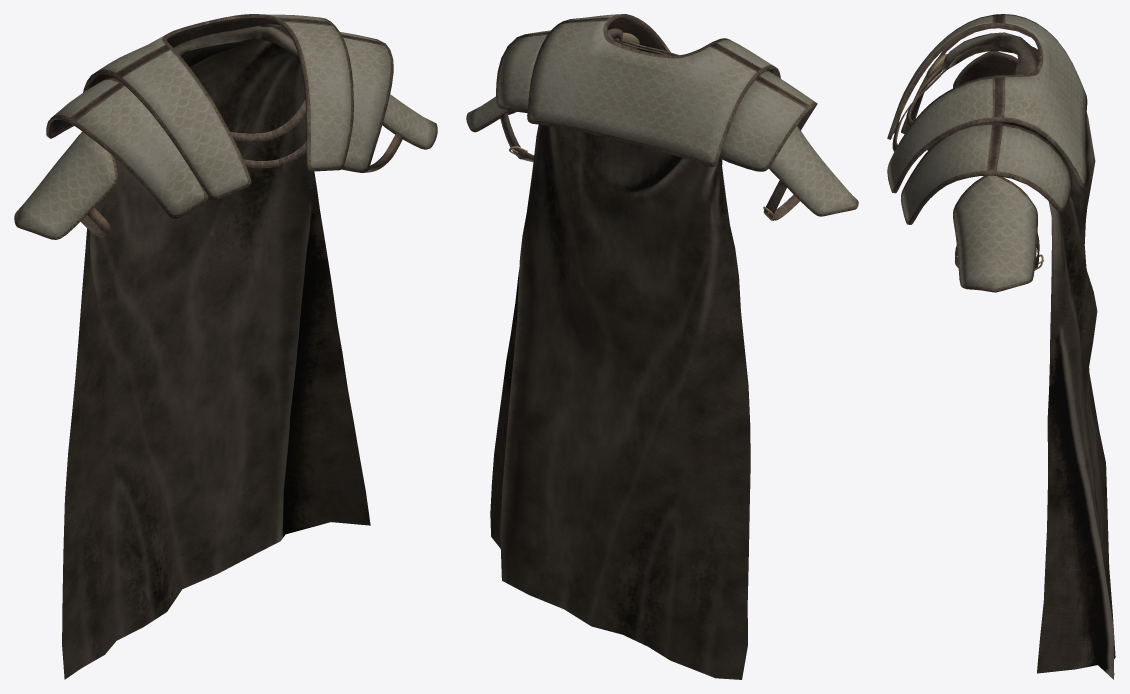
Rendered from dunland_wulf_pauldron_cape_c.fbx.
3 views of the same model, side by side, from view 1: azimuth 30°, elevation 25°; view 2: azimuth 150°, elevation 25°; view 3: azimuth 270°, elevation 25° (orthographic). The views are drawn at different scales.
Visible parts, largest first — view 1: dunland_wulf_pauldron_cape_c.cloth, dunland_wulf_pauldron_cape_c.pauldron; view 2: dunland_wulf_pauldron_cape_c.cloth, dunland_wulf_pauldron_cape_c.pauldron; view 3: dunland_wulf_pauldron_cape_c.pauldron, dunland_wulf_pauldron_cape_c.cloth.
Part boxes in pixels (left/top/right/bottom): dunland_wulf_pauldron_cape_c.cloth: left=62, top=24, right=370, bottom=679; dunland_wulf_pauldron_cape_c.pauldron: left=14, top=14, right=437, bottom=239; dunland_wulf_pauldron_cape_c.cloth: left=490, top=28, right=750, bottom=679; dunland_wulf_pauldron_cape_c.pauldron: left=466, top=14, right=858, bottom=220; dunland_wulf_pauldron_cape_c.pauldron: left=887, top=14, right=1087, bottom=292; dunland_wulf_pauldron_cape_c.cloth: left=892, top=32, right=1115, bottom=679.
Bounding box in the file's own units: 0.8712 × 0.4121 × 1.28.
Materials: 2 (2 with a texture image).
